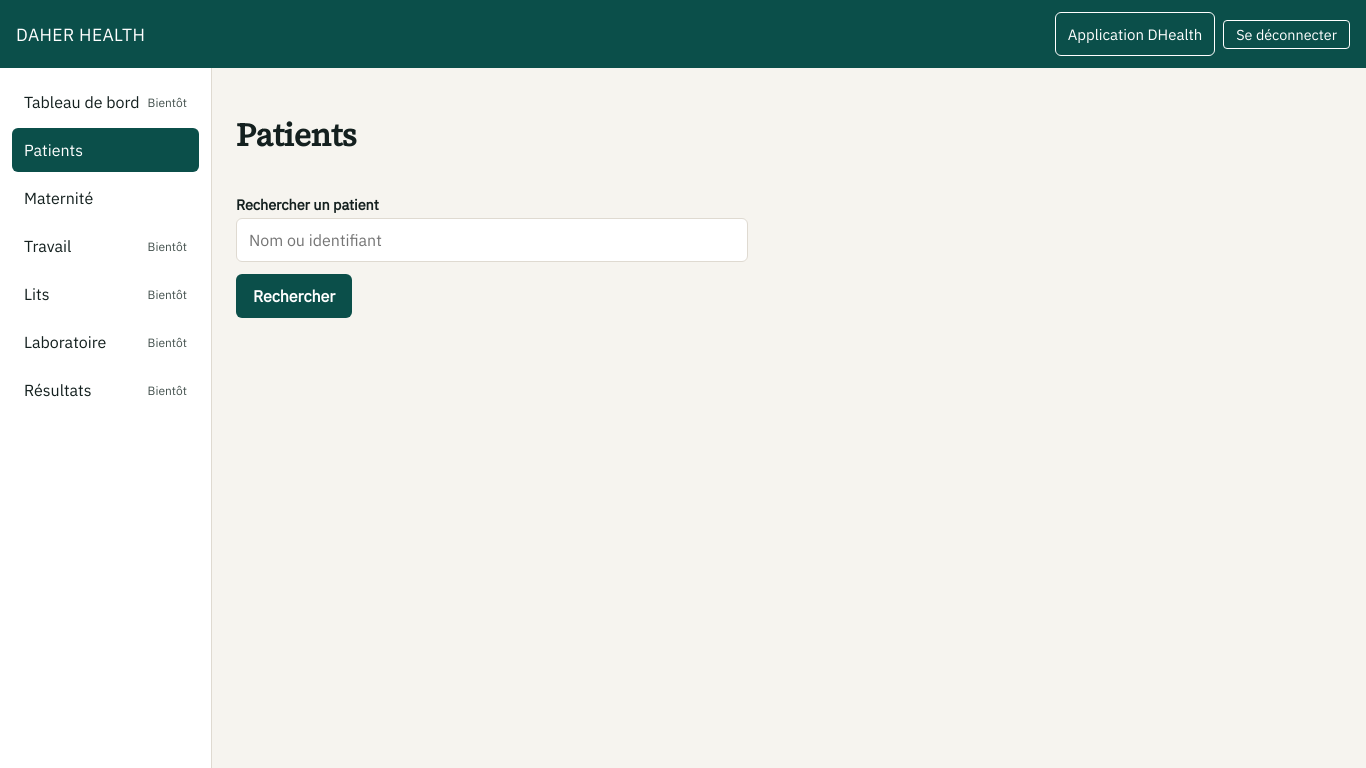
Test: accessibility › a populated maternity board has no detectable axe violations
Click the button "Maternité". click: [105, 198]
box: [12,176,199,220]
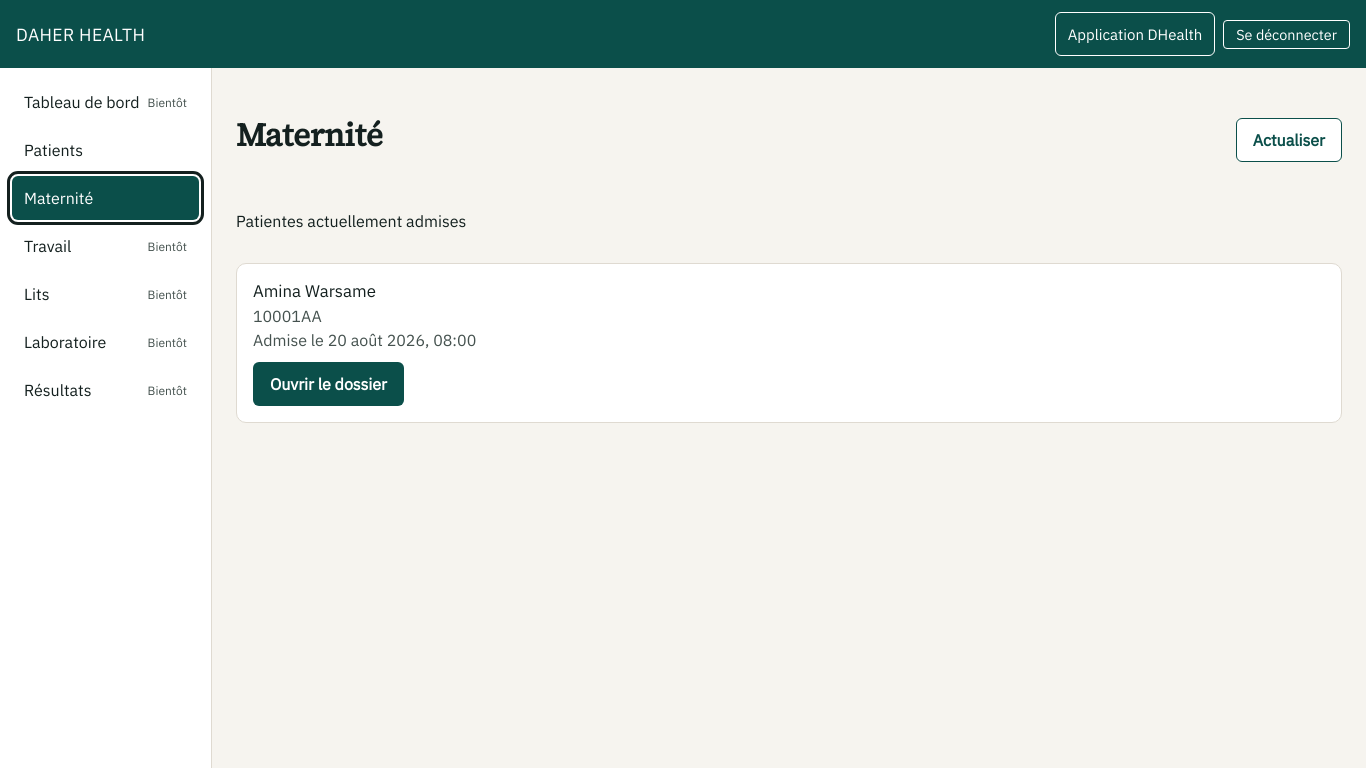
Result: the text "Amina Warsame" is shown at [253,280,376,302]
